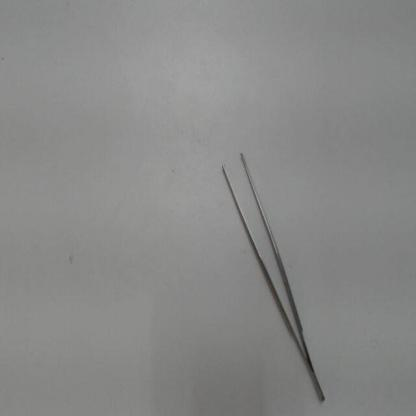Gillies Toothed Dissector: (211, 135, 330, 406)
